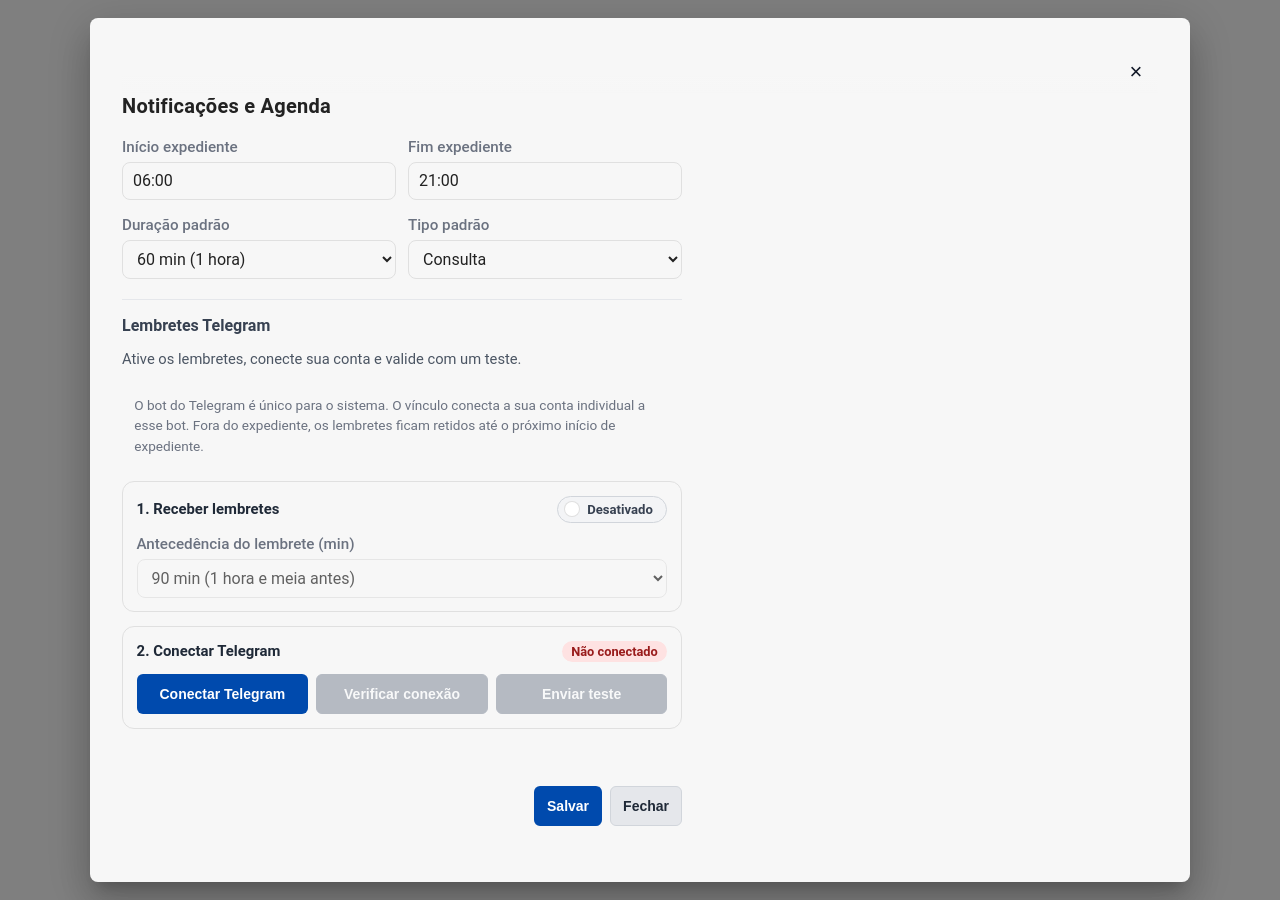
Test: AgendaSettingsModal › normalizes short time fragments on blur
Type "63" into the field labelled "Início expediente" at (259, 181), box [122,162,396,200]
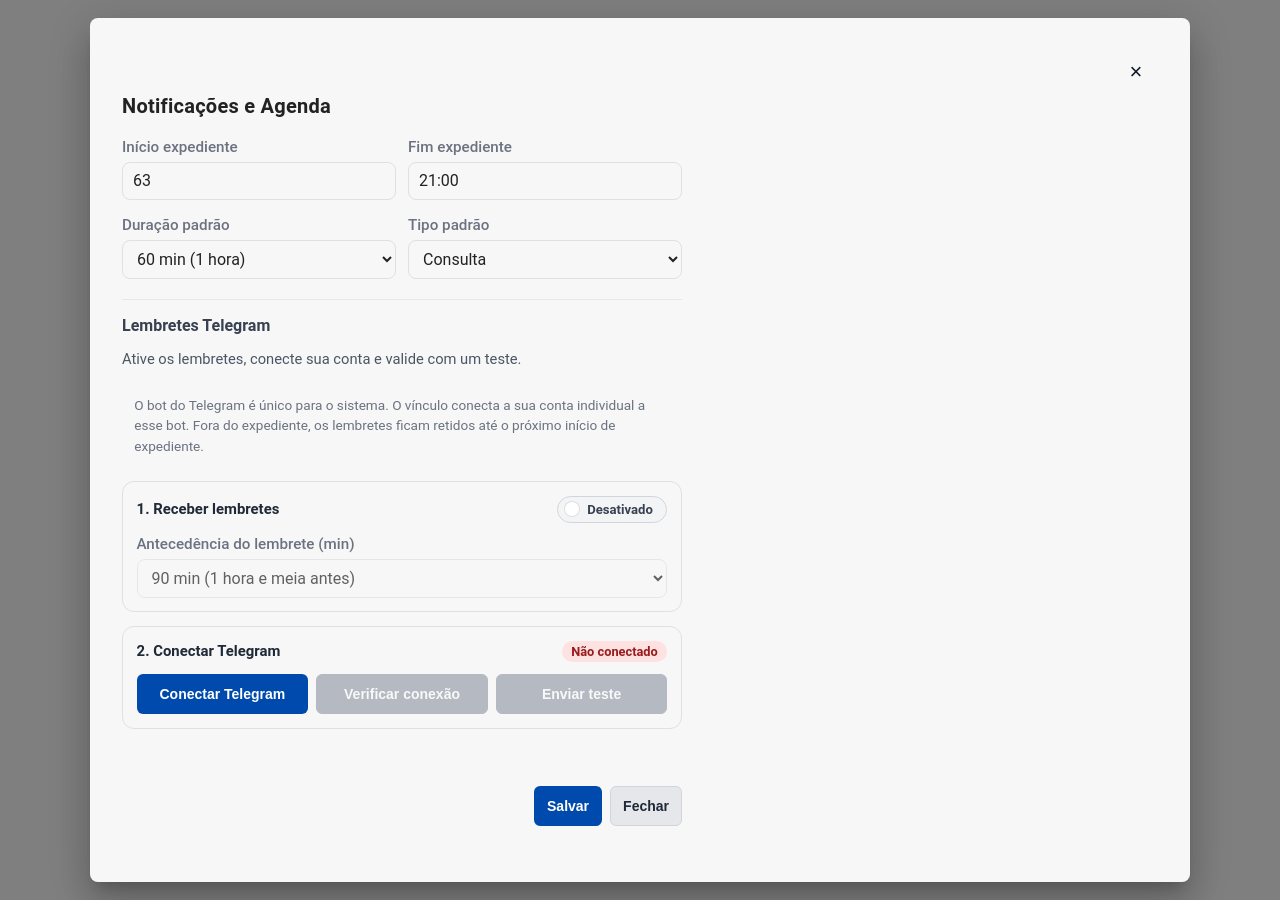
Leave the field labelled "Início expediente", box [122,162,396,200]
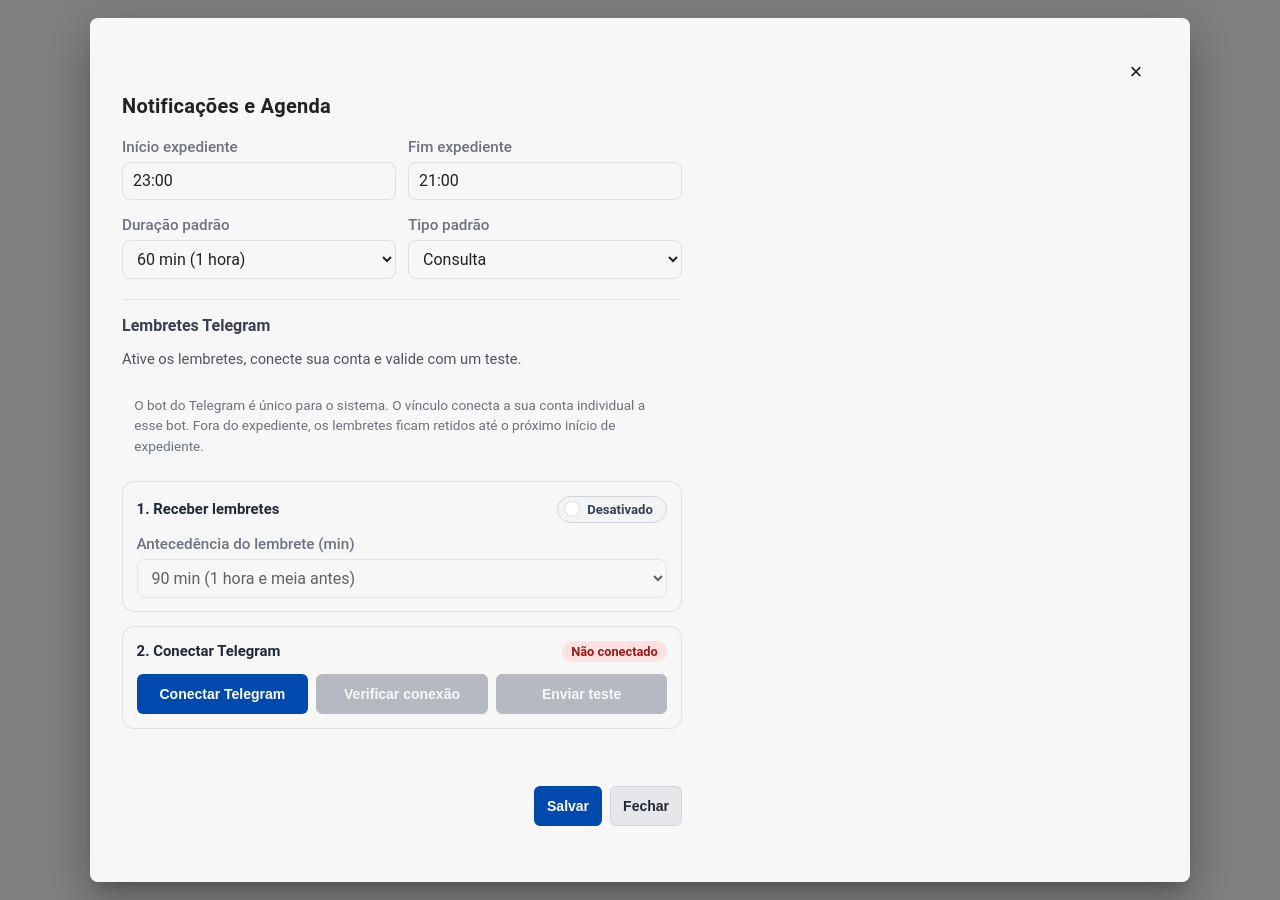
Expected: the field labelled "Início expediente" holds "23:00", [122,162,396,200]
